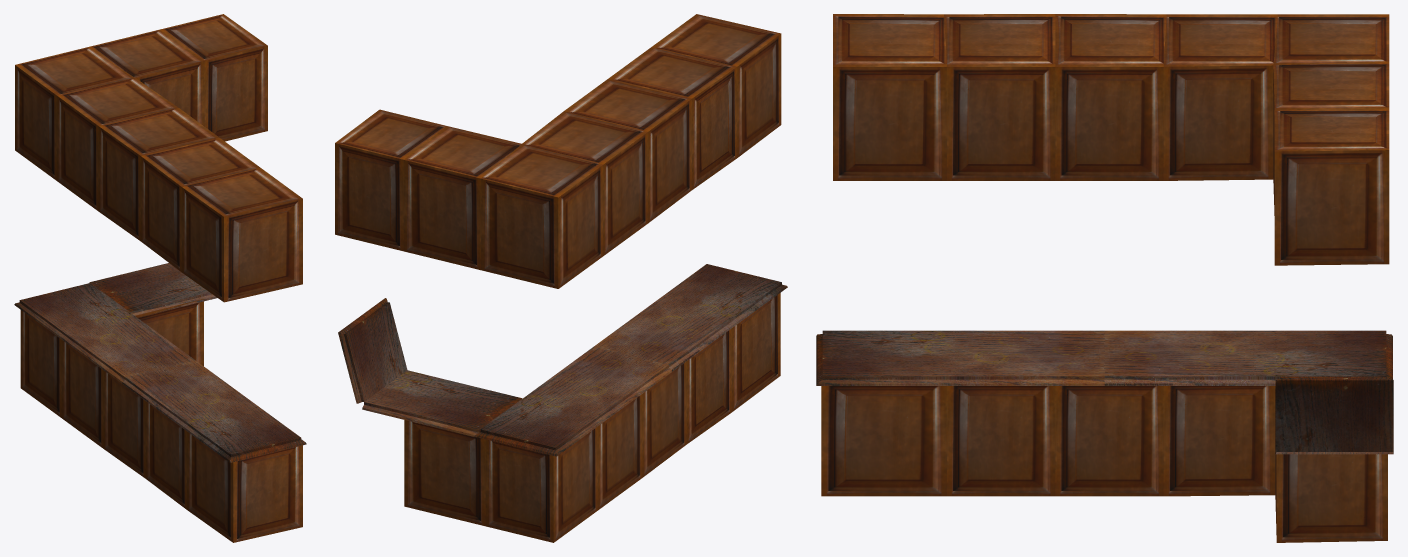
The model's file is Bar.fbx.
3 views of the same model, side by side, from view 1: azimuth 30°, elevation 25°; view 2: azimuth 150°, elevation 25°; view 3: azimuth 270°, elevation 25° (orthographic). The views are drawn at different scales.
Visible parts, largest first — view 1: Empty_Mesh; view 2: Empty_Mesh; view 3: Empty_Mesh.
Part boxes in pixels (x1,y1,x2,y2): Empty_Mesh: [14, 14, 306, 542]; Empty_Mesh: [335, 14, 787, 542]; Empty_Mesh: [816, 14, 1393, 542].
Bounding box in the file's own units: 283 × 418 × 505.
